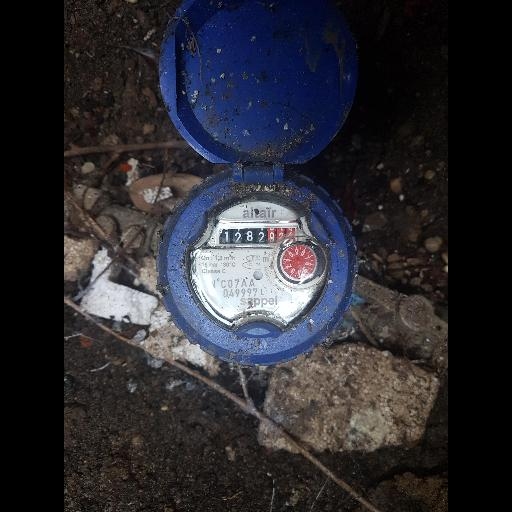1: (222, 229, 230, 243)
2: (234, 229, 243, 244), (257, 229, 266, 244), (278, 229, 285, 244)
4: (286, 229, 294, 240)
8: (246, 229, 255, 244)
9: (268, 229, 276, 244)
border_water_meter_number: (207, 222, 311, 246)
